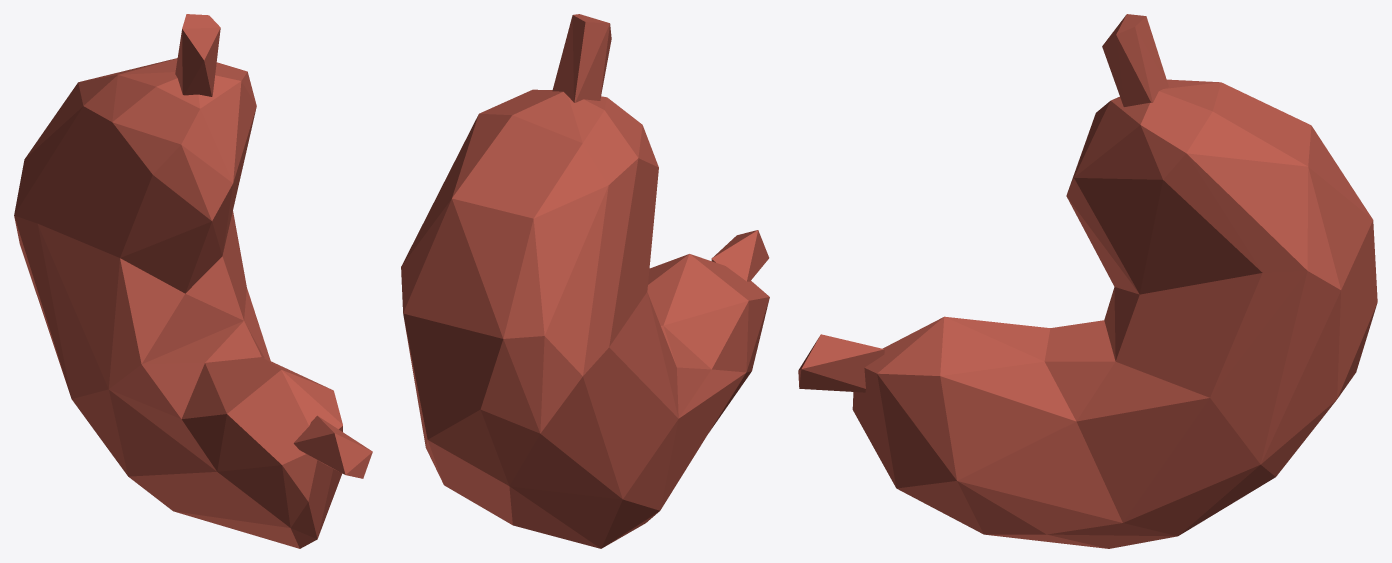
File: estomac.fbx
The picture shows the model from 3 angles, left to right: view 1: azimuth 30°, elevation 25°; view 2: azimuth 150°, elevation 25°; view 3: azimuth 270°, elevation 25°; orthographic projection. The views are drawn at different scales.
Parts seen in each view (by area): view 1: Cylinder.001; view 2: Cylinder.001; view 3: Cylinder.001.
Boxes of the visible parts, left/top/right/bottom form: Cylinder.001: left=14, top=14, right=372, bottom=548; Cylinder.001: left=401, top=14, right=769, bottom=548; Cylinder.001: left=798, top=14, right=1377, bottom=548.
Size of the model in its own units: 280 by 724 by 739.
